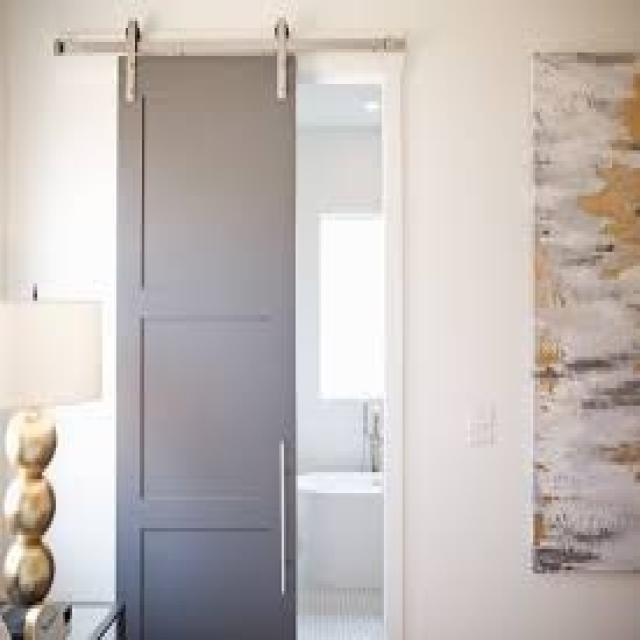door: (115, 52, 297, 640)
